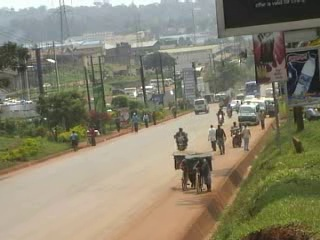Car: (228, 97, 242, 111), (242, 93, 256, 104)
Motorcycle: (168, 126, 188, 151), (229, 125, 245, 148), (214, 109, 225, 126), (223, 106, 235, 121), (234, 99, 241, 112)
